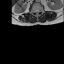CCS_normal: (36, 8, 37, 15)
LFS_normal: (39, 8, 41, 13)
LLS_normal: (37, 8, 39, 14)
RFS_normal: (33, 8, 34, 14)
RLS_normal: (34, 8, 36, 14)
